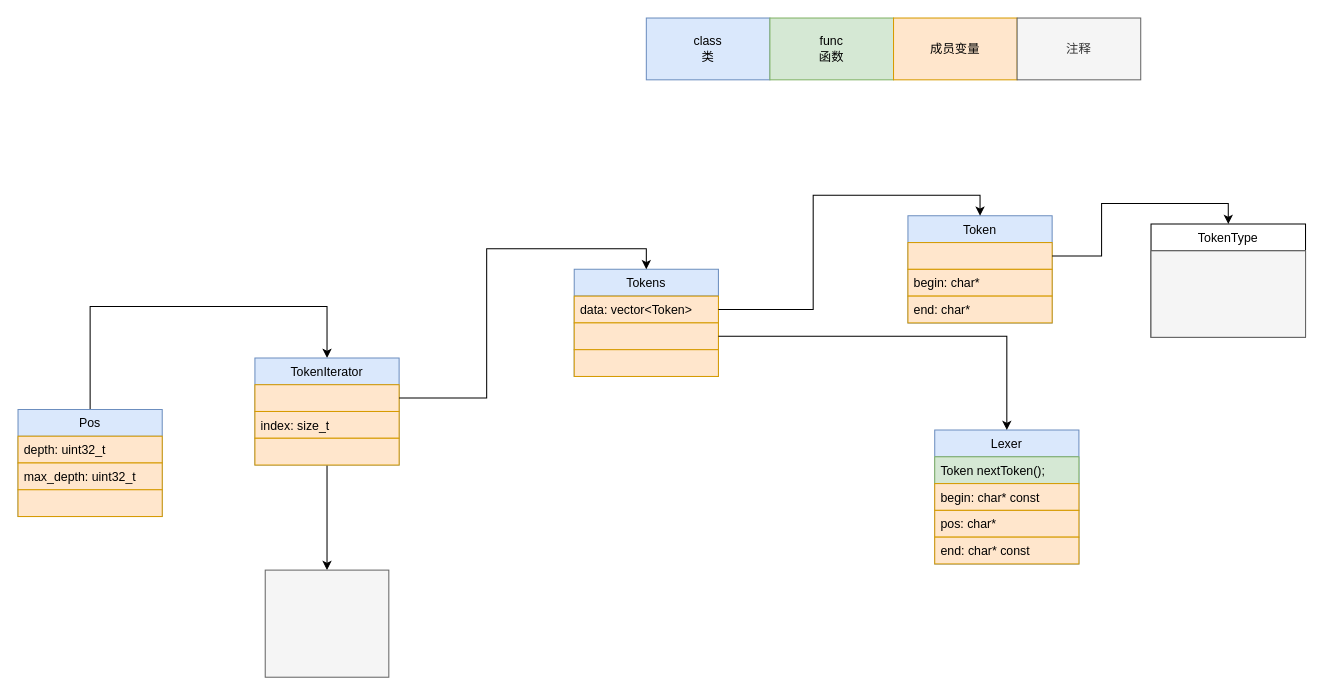
Image size: 1339x695. Some labels were removed from this diagram. Each missing label, with the centre of its shape:
"lexer: Lexer" belongs at (x=645, y=336).
"tokens: Tokens" belongs at (x=326, y=397).
"type: TokenType" belongs at (x=979, y=255).
"对Tokens进行拓展，重载实现了取值* 自增++ 自减-- 比较 < == 等运算符；实现迭代器的功能" belongs at (x=326, y=623).
"是一个枚举类 enum class，枚举内容为Whitespace\Number\Dot\Error等多种Token类型" belongs at (x=1228, y=293).
